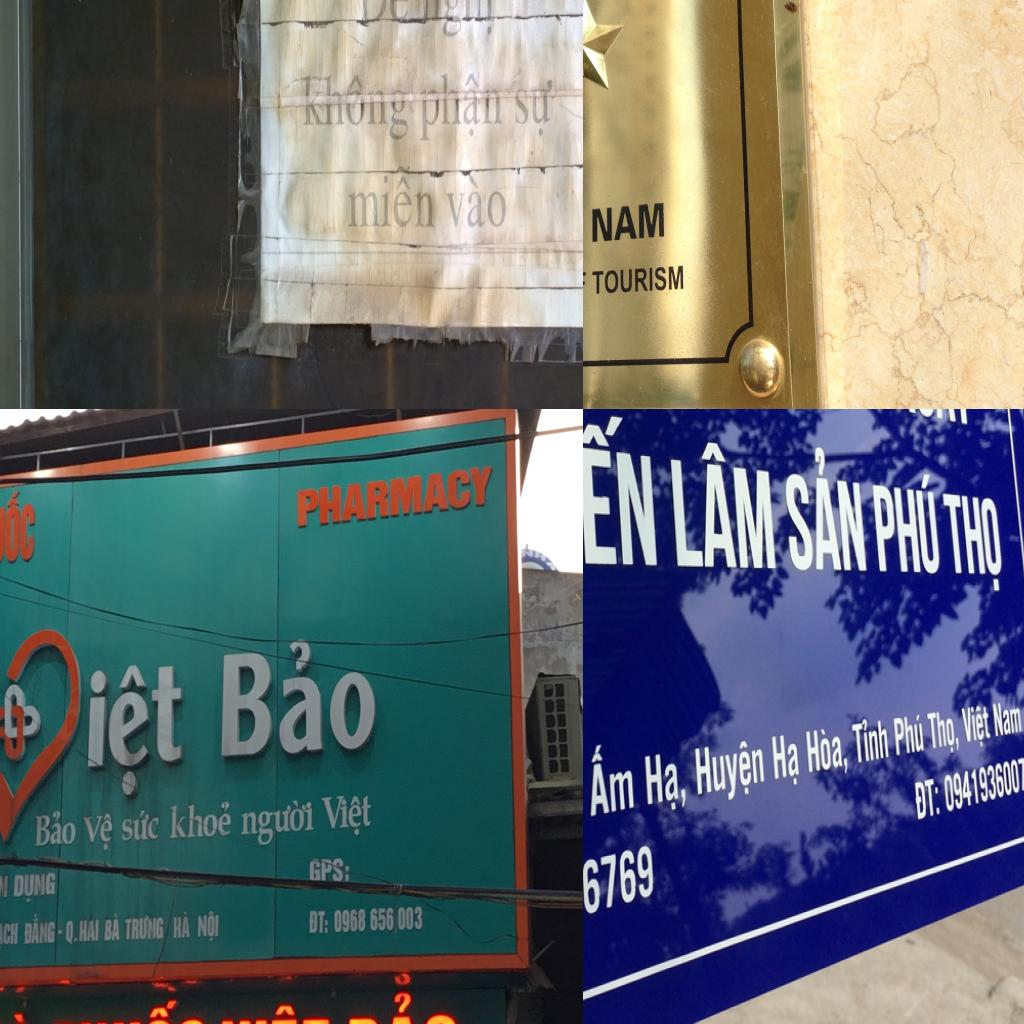text: (218, 623, 378, 761), (662, 434, 781, 578), (80, 649, 192, 798), (295, 454, 496, 535), (583, 409, 664, 574), (776, 447, 870, 578), (583, 836, 661, 967), (302, 70, 410, 144), (937, 483, 1009, 594), (871, 468, 943, 578), (419, 70, 504, 144), (346, 164, 436, 230), (692, 732, 772, 805), (584, 739, 638, 826), (49, 996, 213, 1024), (343, 987, 467, 1024), (239, 796, 318, 850), (640, 741, 692, 817), (590, 198, 666, 246), (0, 484, 40, 573), (444, 174, 506, 231), (334, 900, 426, 937), (802, 718, 852, 779), (320, 788, 375, 843), (168, 797, 234, 842), (766, 724, 808, 792), (421, 0, 494, 39), (220, 1000, 333, 1024), (514, 78, 554, 140), (848, 712, 892, 768), (906, 767, 944, 826), (32, 806, 79, 853), (926, 705, 963, 758), (892, 707, 927, 761), (959, 700, 994, 753), (991, 694, 1024, 745), (120, 805, 162, 845), (12, 868, 58, 904), (80, 806, 114, 854), (306, 855, 354, 889), (124, 912, 167, 942), (358, 0, 410, 24), (22, 913, 58, 946), (194, 907, 222, 945), (305, 905, 331, 937), (0, 916, 19, 951), (173, 910, 194, 941), (103, 911, 123, 943), (80, 913, 100, 943), (65, 913, 79, 946), (0, 869, 10, 902), (58, 925, 63, 937)
